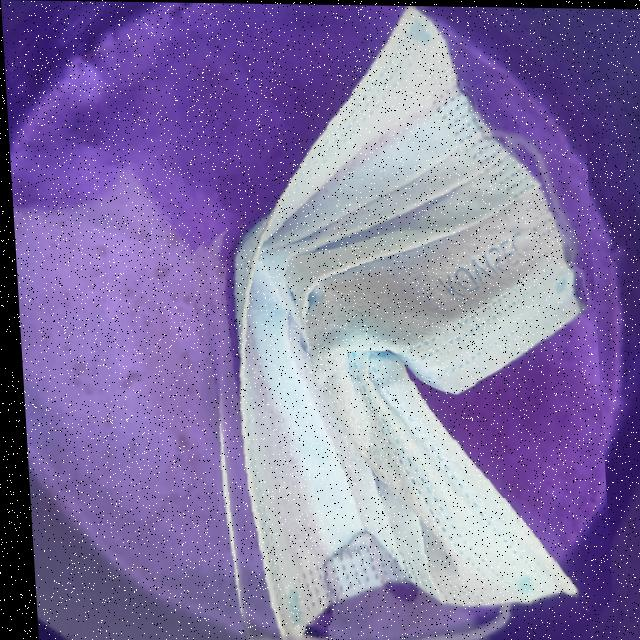litter: (173, 2, 607, 640)
